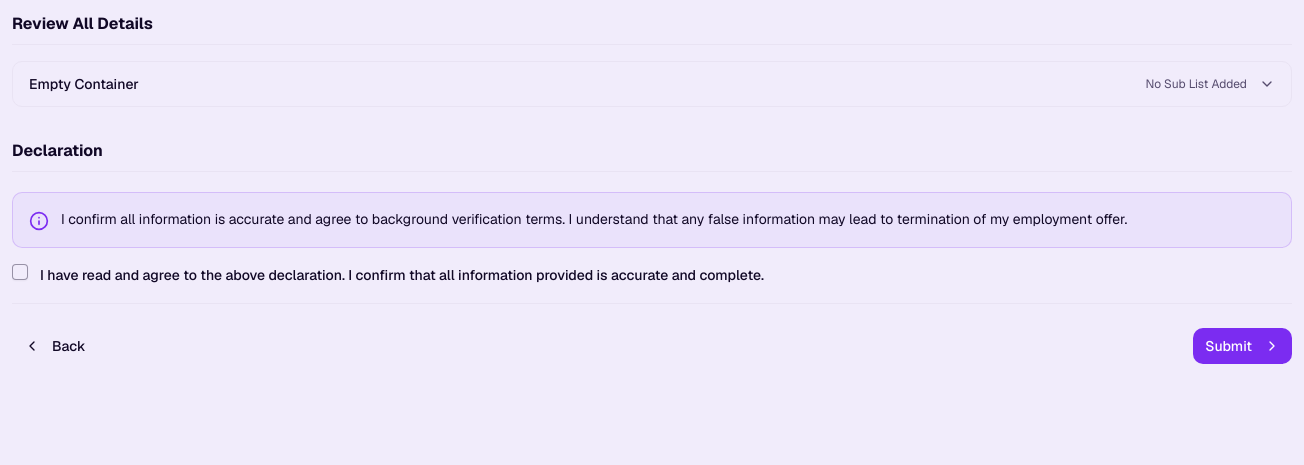
it: ReviewStep › Extended Workflow: Automations & Dynamic Summaries › displays definitive void state when expansion uncovers an empty target table
Click the button "Empty Container No Sub List Added": (84, 84) left=13, top=62, right=1291, bottom=106
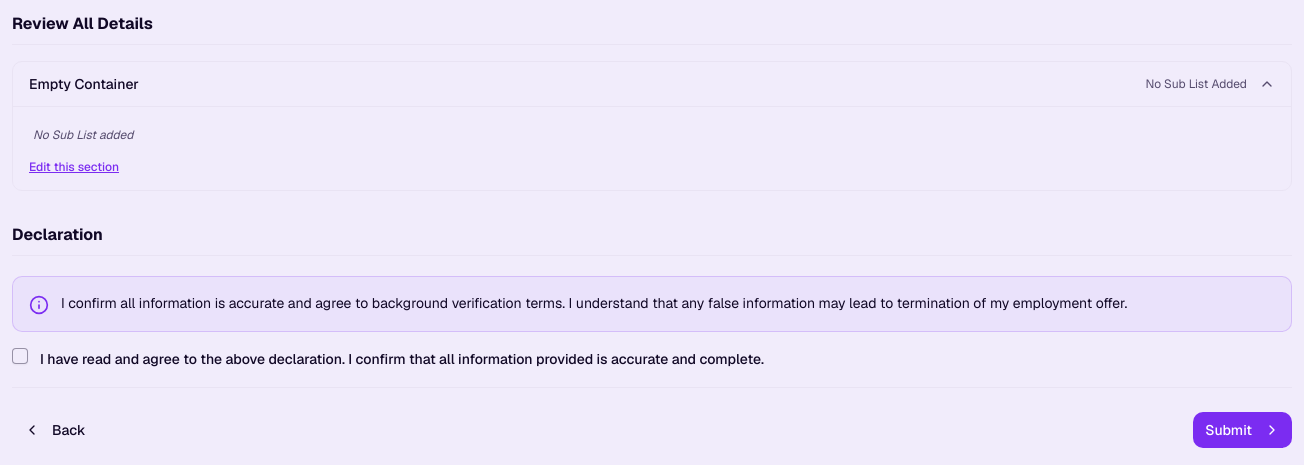
Now the text "No Sub List added" is shown, box left=33, top=127, right=133, bottom=143
